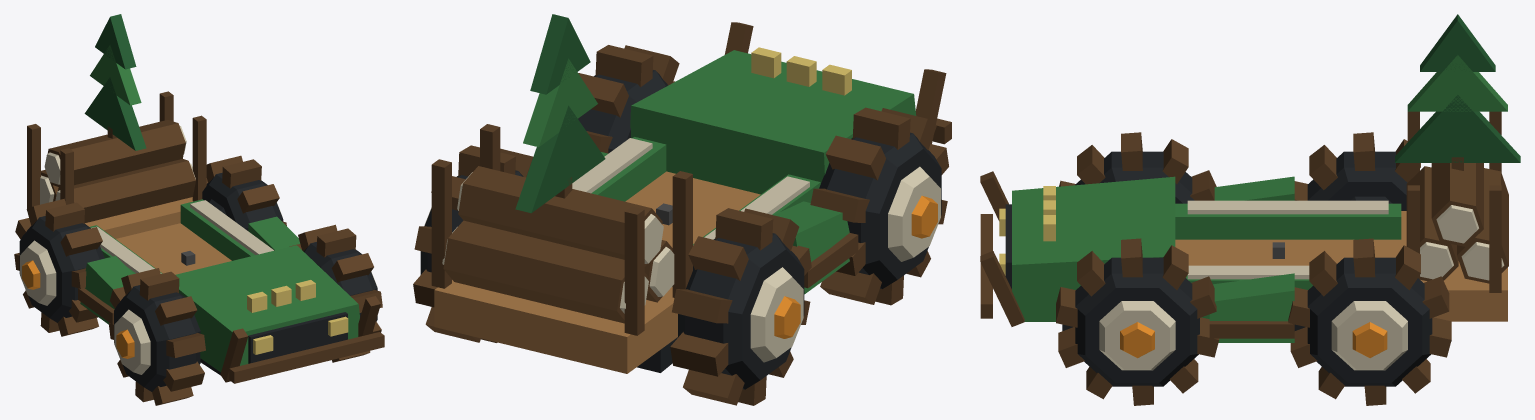
Rendered from kart-pineValley.glb.
3 renders of one model, left to right at view 1: azimuth 30°, elevation 25°; view 2: azimuth 150°, elevation 25°; view 3: azimuth 270°, elevation 25°, orthographic. The views are drawn at different scales.
Parts seen in each view (by area): view 1: kart-pineValley, wheel-front-right, wheel-back-right, wheel-back-left, wheel-front-left; view 2: kart-pineValley, wheel-back-right, wheel-front-right, wheel-front-left, wheel-back-left; view 3: kart-pineValley, wheel-back-left, wheel-front-left, wheel-back-right, wheel-front-right.
Part boxes in pixels (left/top/right/bottom): kart-pineValley: left=27, top=14, right=384, bottom=383; wheel-front-right: left=108, top=268, right=205, bottom=405; wheel-back-right: left=14, top=198, right=104, bottom=336; wheel-back-left: left=202, top=155, right=286, bottom=230; wheel-front-left: left=289, top=224, right=382, bottom=362; kart-pineValley: left=431, top=14, right=951, bottom=373; wheel-back-right: left=670, top=208, right=811, bottom=405; wheel-front-right: left=810, top=107, right=948, bottom=305; wheel-front-left: left=578, top=45, right=679, bottom=153; wheel-back-left: left=413, top=145, right=533, bottom=342; kart-pineValley: left=980, top=14, right=1520, bottom=342; wheel-back-left: left=1288, top=238, right=1451, bottom=405; wheel-front-left: left=1056, top=238, right=1219, bottom=405; wheel-back-right: left=1294, top=132, right=1420, bottom=210; wheel-front-right: left=1059, top=132, right=1216, bottom=203.
Size of the model in its own units: 1.12 by 1.15 by 1.72.
